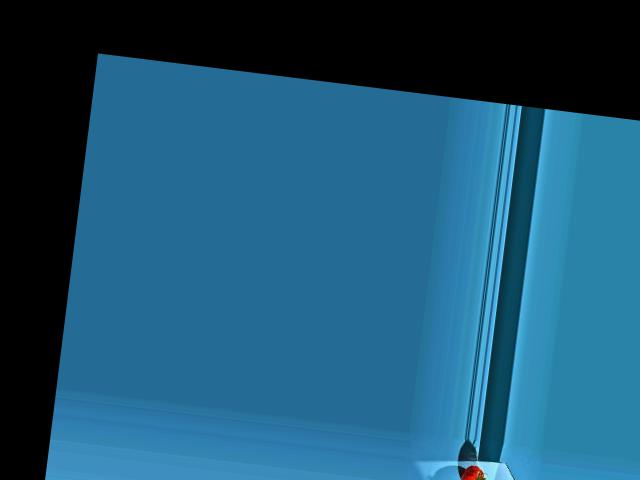tomato: (460, 463, 486, 480)
